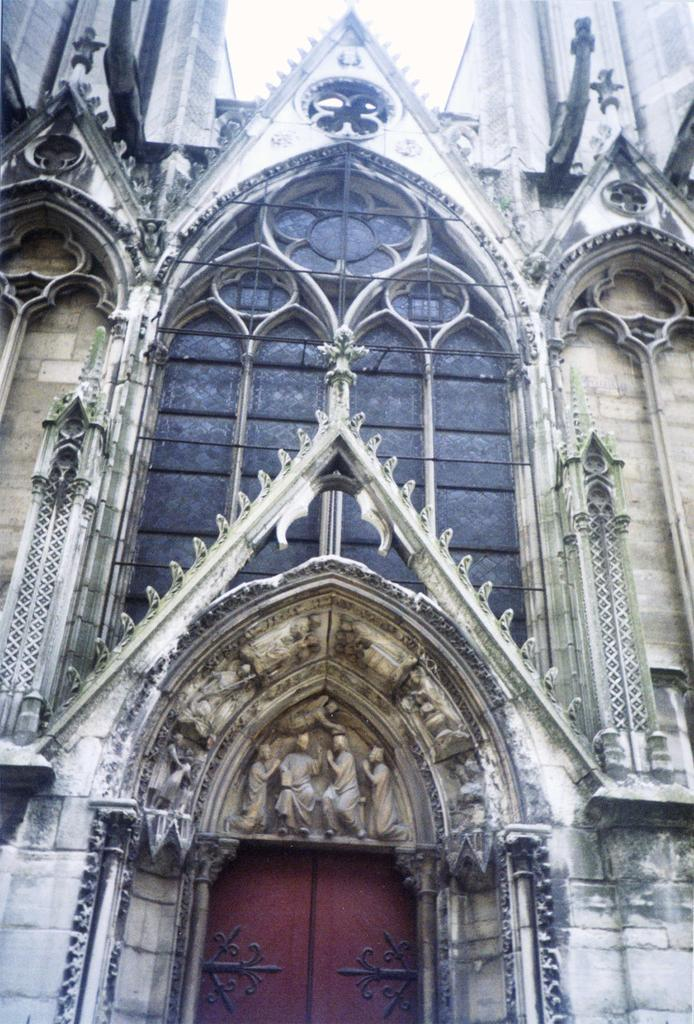door: (200, 860, 312, 1024), (316, 859, 416, 1024)
